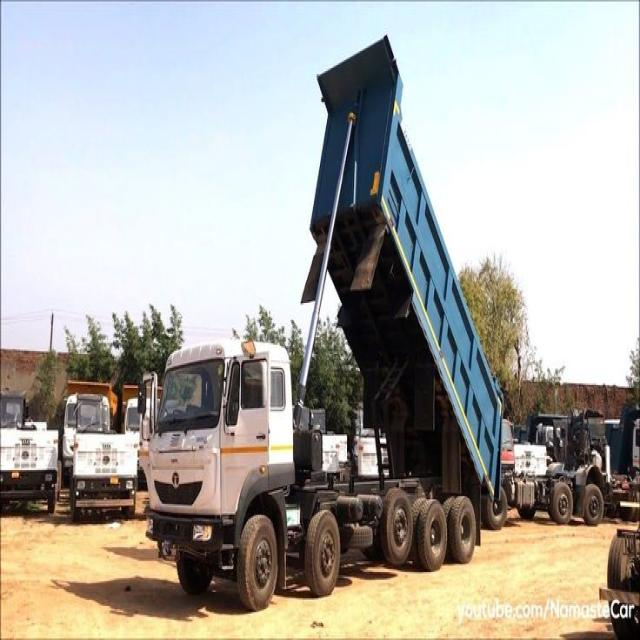truck: (144, 40, 500, 608), (500, 407, 640, 524), (60, 384, 139, 521), (0, 393, 58, 512)
